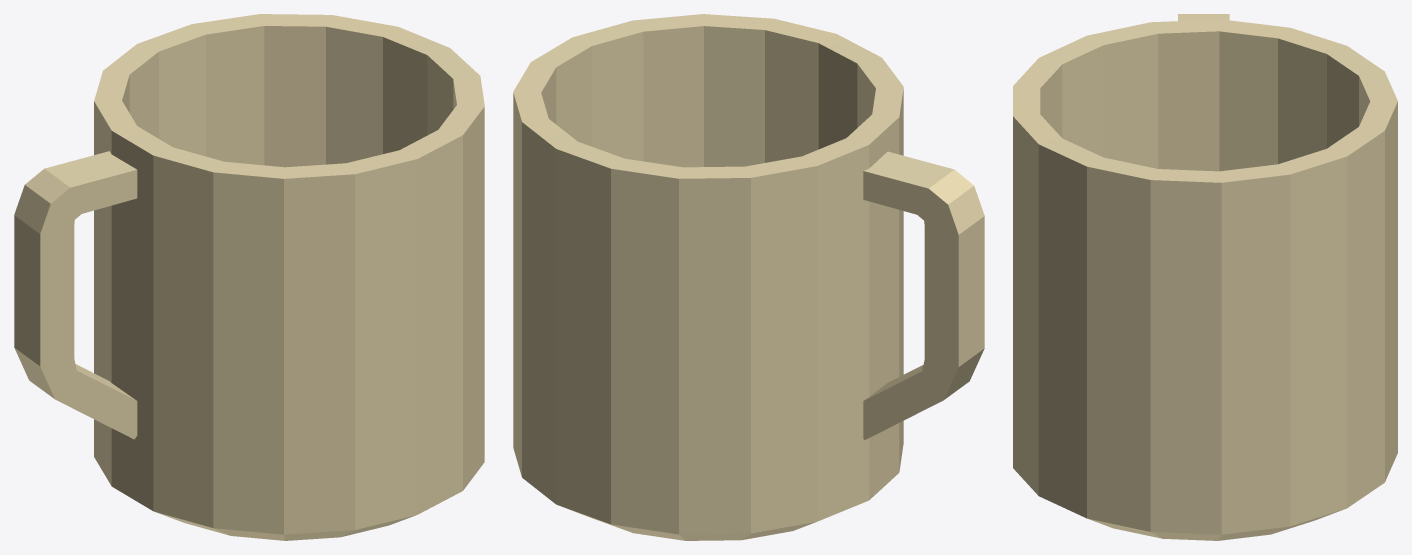
The model's file is cup.glb.
The picture shows the model from 3 angles, left to right: view 1: azimuth 30°, elevation 25°; view 2: azimuth 150°, elevation 25°; view 3: azimuth 270°, elevation 25°; orthographic projection.
Visible parts, largest first — view 1: mug; view 2: mug; view 3: mug.
Part boxes in pixels (x1,y1,x2,y2): mug: (14,14,484,540); mug: (513,14,984,540); mug: (1013,14,1397,540).
Size of the model in its own units: 0.1283 by 0.108 by 0.1001.
